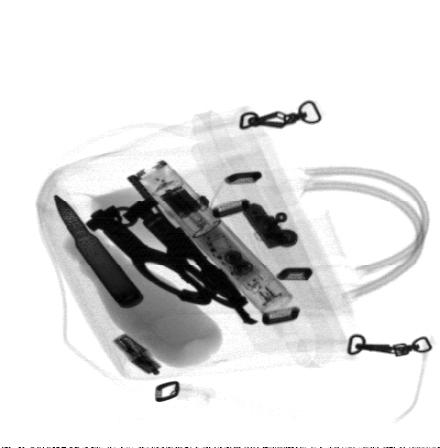Baton: (134, 159, 293, 315)
Bullet: (53, 192, 145, 309)
HandCuffs: (83, 174, 260, 323)
